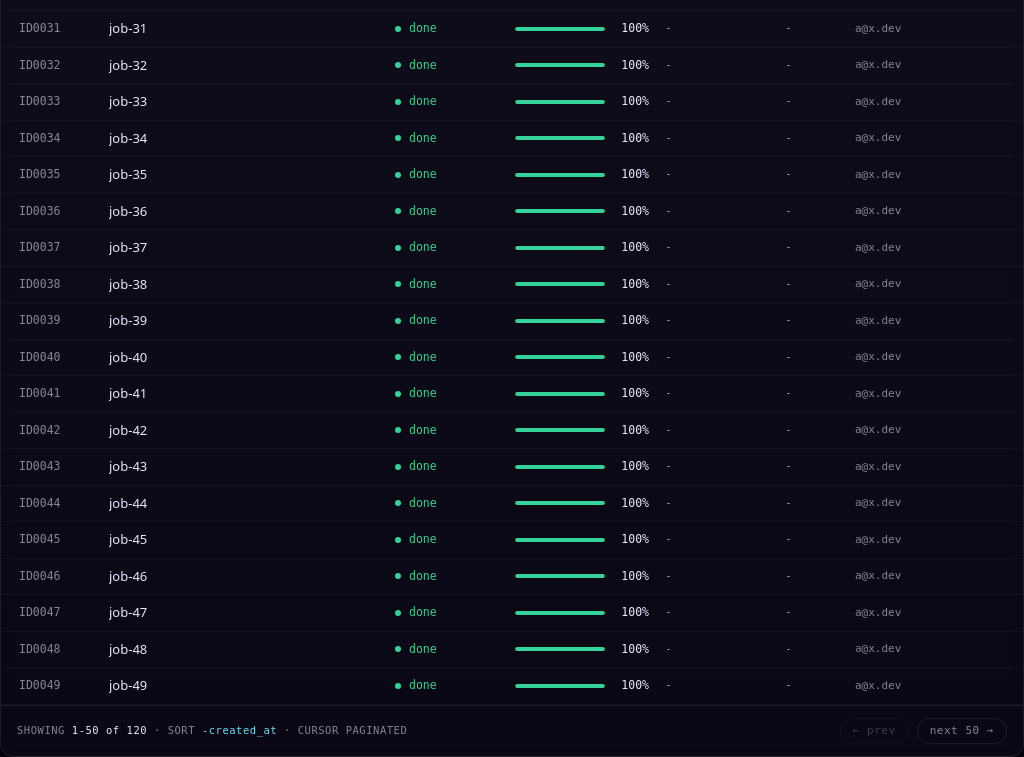
Scenario: pagination footer shows correct range for partial last page
The width and height of the screenshot is (1024, 757).
(page scrolled)
Step 1. Click the button "next 50 →" → (962, 731), box [917, 718, 1007, 744]
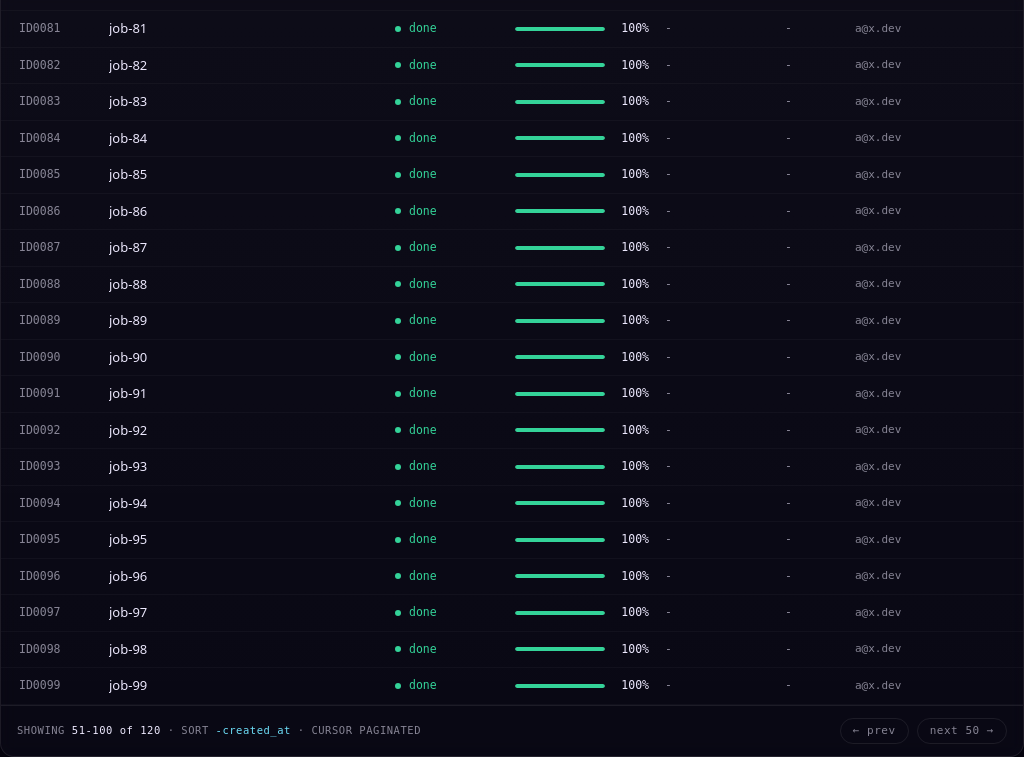
Step 2. Click the button "next 50 →" → (962, 731), box [917, 718, 1007, 744]
(page scrolled)
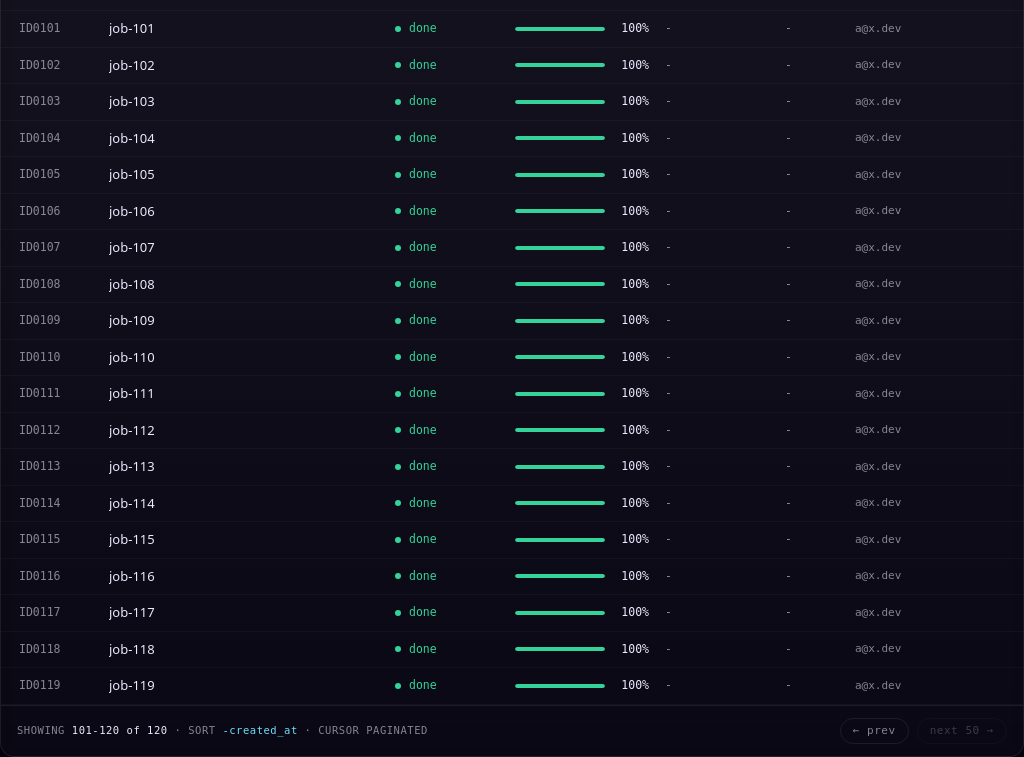
Expected: the text "101-120 of 120" is shown, [72, 724, 168, 736]
